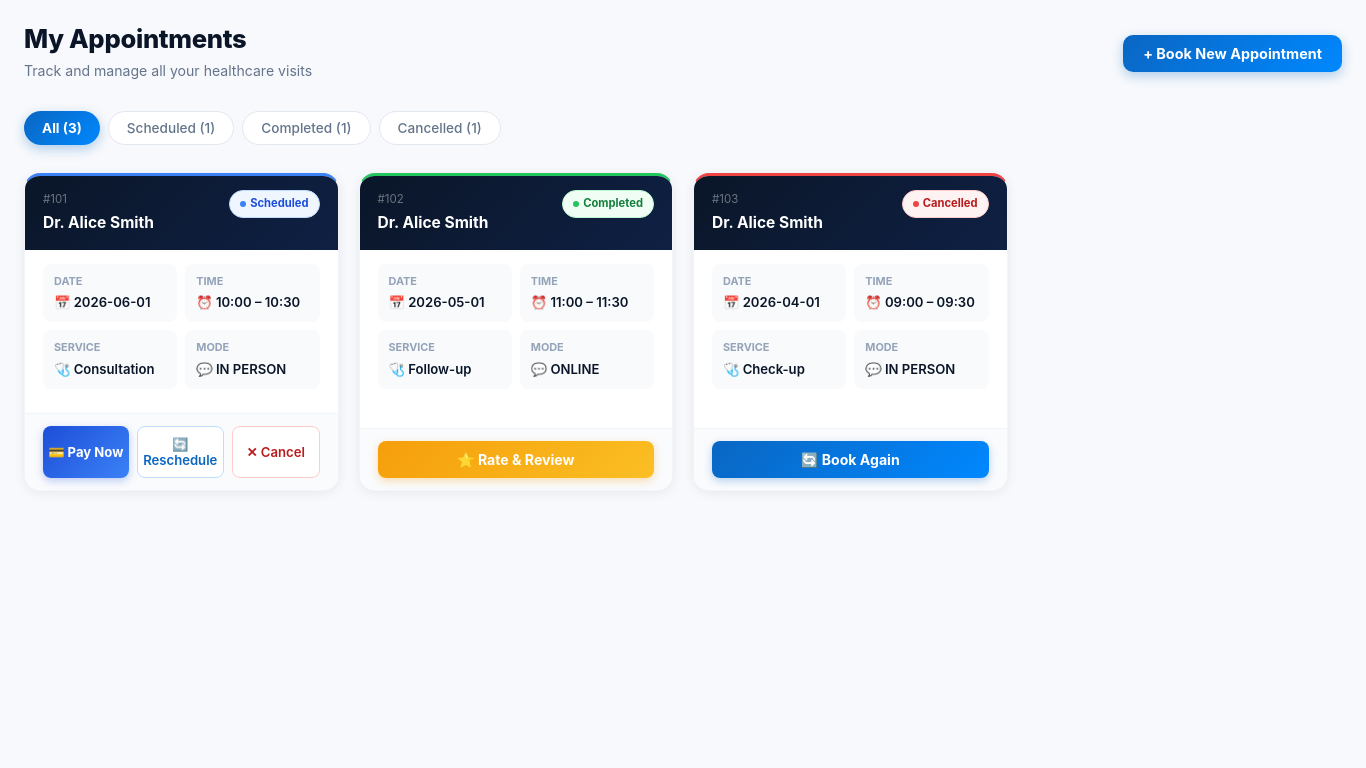
MyAppointments Component › closes reschedule modal when Cancel button inside modal is clicked
The image size is (1366, 768).
Click the button "🔄 Reschedule".
click(180, 452)  # box x1=136 y1=426 x2=224 y2=478
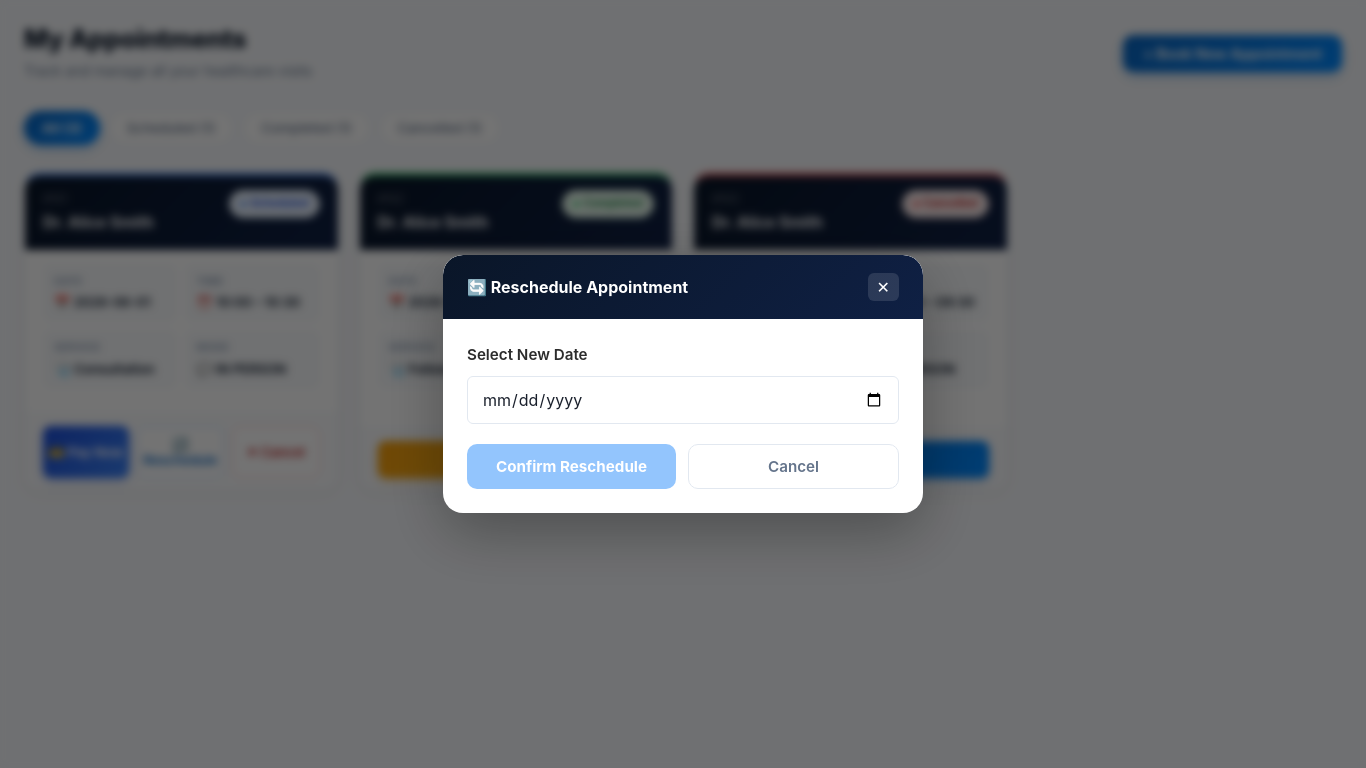
Expected: the heading "🔄 Reschedule Appointment" is shown, x1=467 y1=278 x2=688 y2=297
The modal Cancel button is the last "Cancel" on screen
Click the button "Cancel".
click(794, 466)  # box x1=688 y1=444 x2=899 y2=489
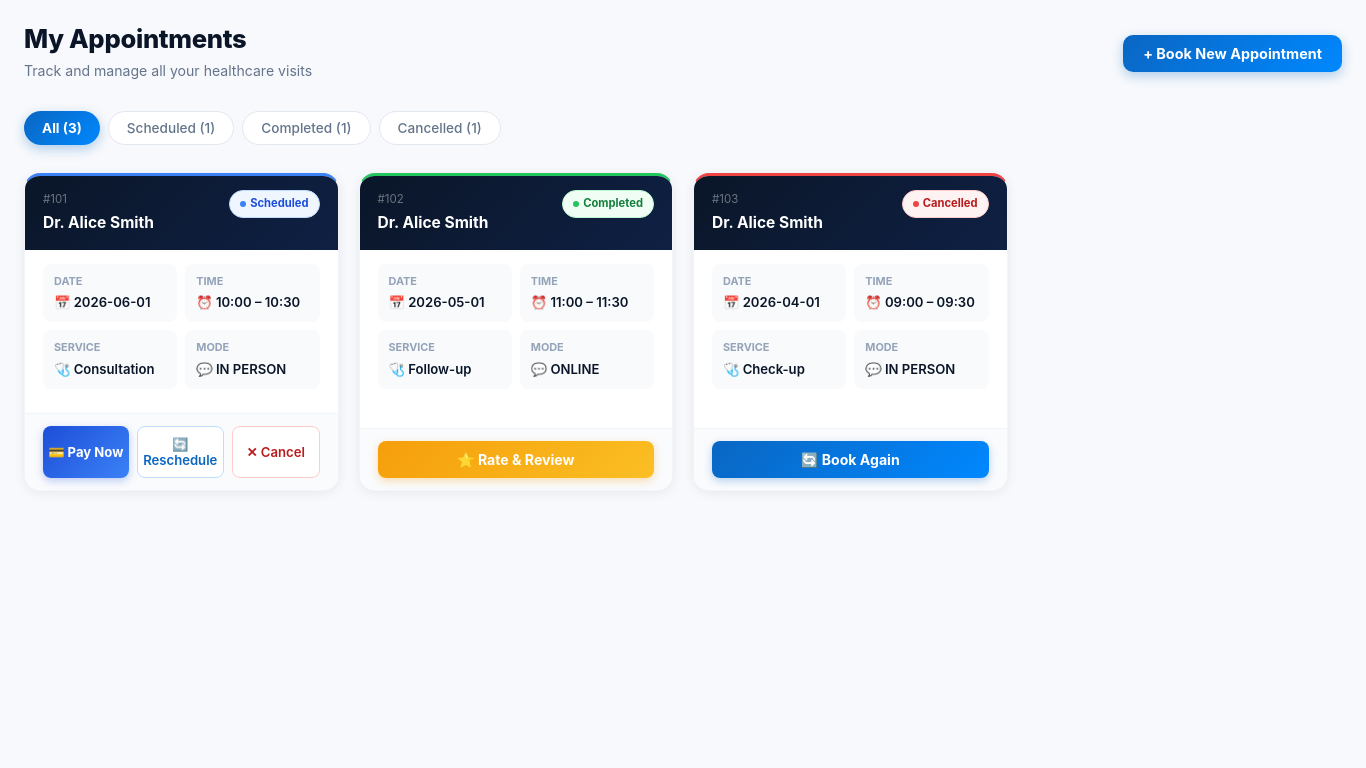
Expected: the heading "🔄 Reschedule Appointment" is gone
